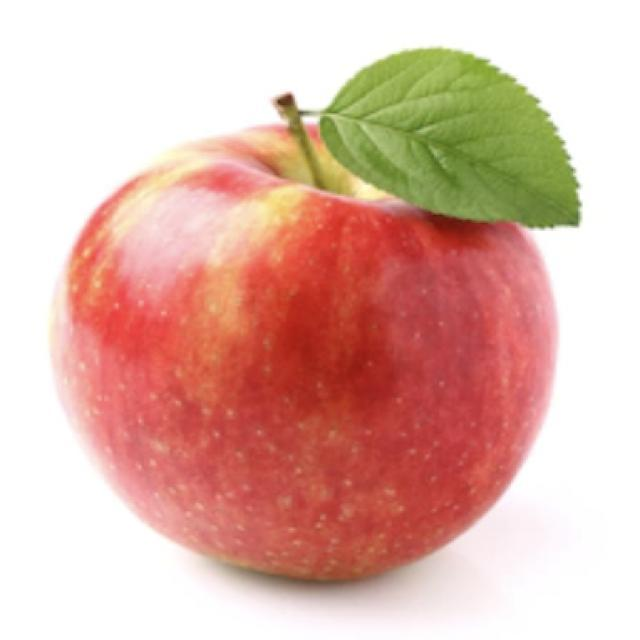Fresh Apple: (80, 135, 558, 577)
